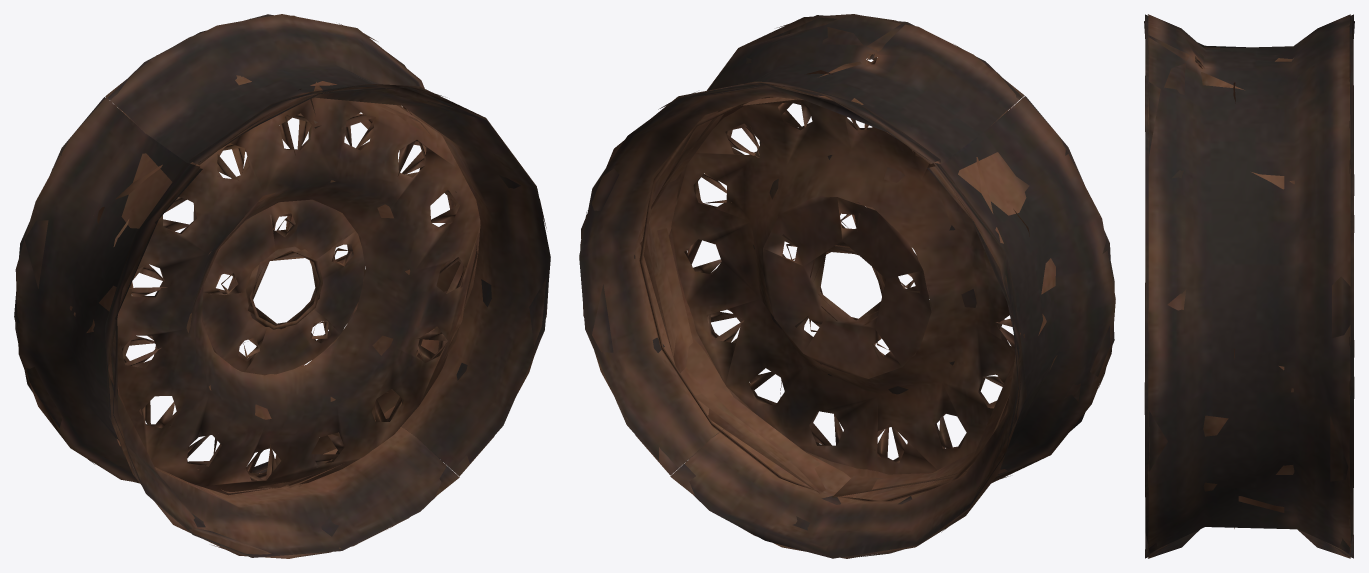
Rendered from rusted_wheel_rim_01.glb.
3 views of the same model, side by side, from view 1: azimuth 30°, elevation 25°; view 2: azimuth 150°, elevation 25°; view 3: azimuth 270°, elevation 25° (orthographic). The views are drawn at different scales.
Visible parts, largest first — view 1: rusted_wheel_rim_01; view 2: rusted_wheel_rim_01; view 3: rusted_wheel_rim_01.
Part boxes in pixels (box(x1,y1,x2,y2)): rusted_wheel_rim_01: box(14, 14, 550, 558); rusted_wheel_rim_01: box(579, 14, 1115, 558); rusted_wheel_rim_01: box(1144, 14, 1354, 558).
Bounding box in the file's own units: 0.4024 × 0.4032 × 0.1555.
Materials: 1 (1 with a texture image).
